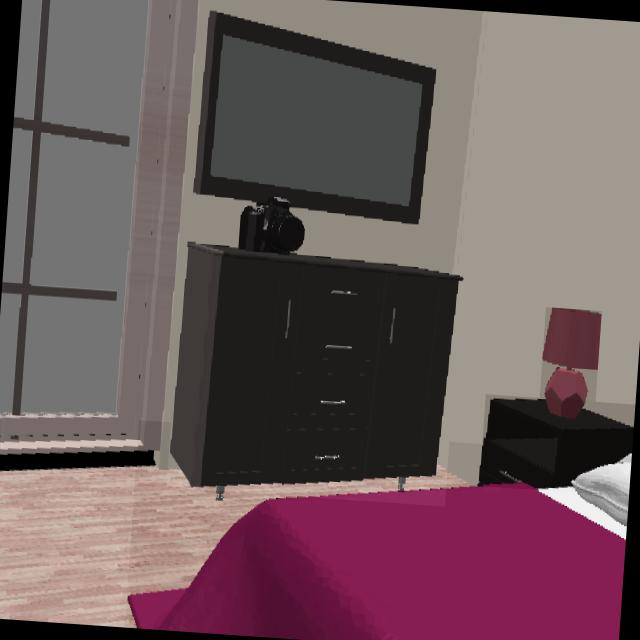bed: (126, 454, 631, 640)
cabinet: (169, 247, 460, 491)
lamp: (542, 308, 601, 419)
nighttable: (481, 398, 631, 489)
